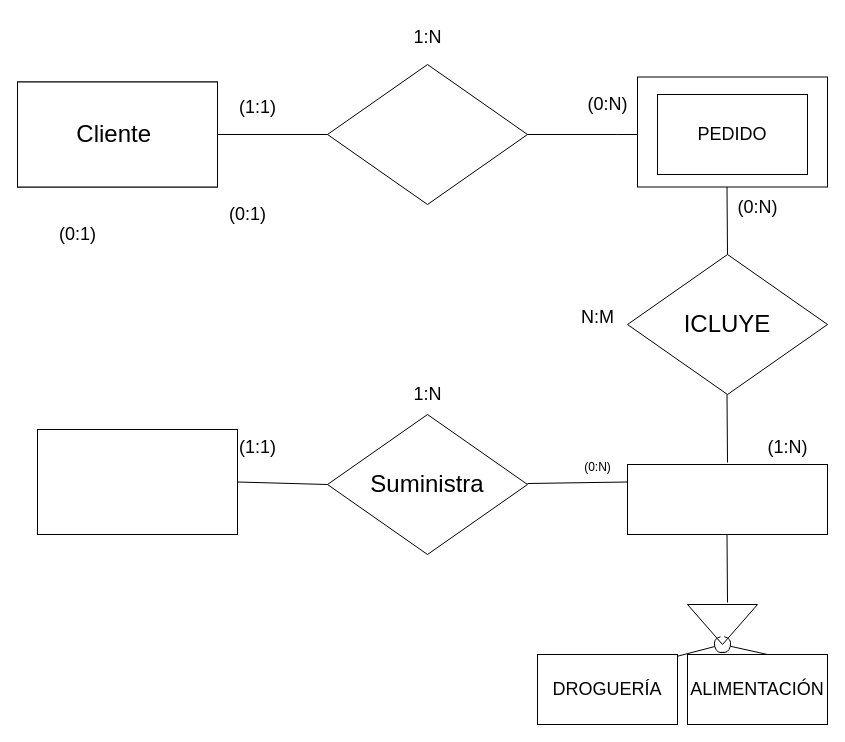
The diagram is 845 pixels wide and 742 high, and some of its shapes have lost their labels. Here are the shapes that lost their labels. From the top down, the box of each, then its label:
(326, 64, 528, 204): Realiza
(36, 428, 238, 534): Proveedor
(626, 464, 828, 534): Producto
